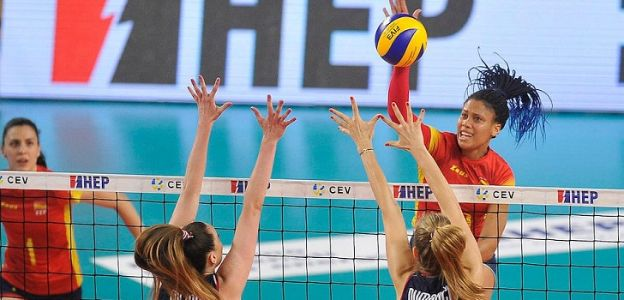voleibol: (375, 14, 427, 66)
